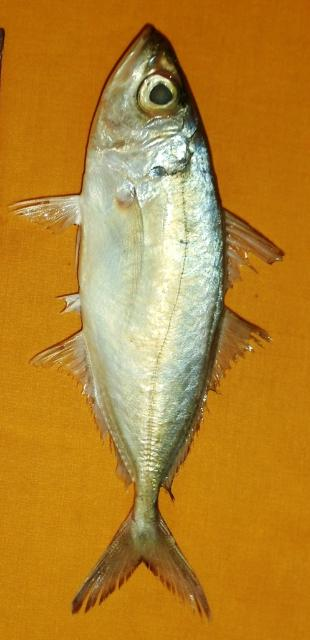Mulut: (98, 8, 190, 88)
Sirip Anal: (15, 281, 140, 487)
Sirip Dada: (108, 176, 152, 350)
Sirip Ekor: (63, 508, 227, 628)
Sirip Perut: (4, 172, 86, 248)
Sirip Punggung: (196, 178, 292, 504)
